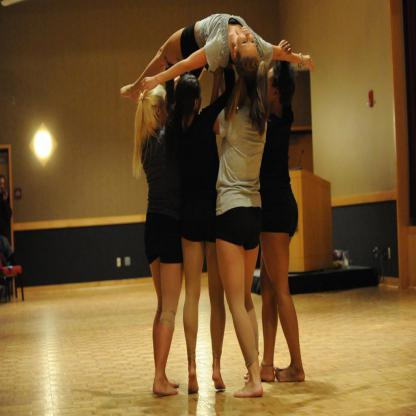face: (238, 27, 261, 60), (266, 69, 279, 105), (157, 97, 168, 125), (195, 83, 203, 113), (1, 177, 6, 196)
